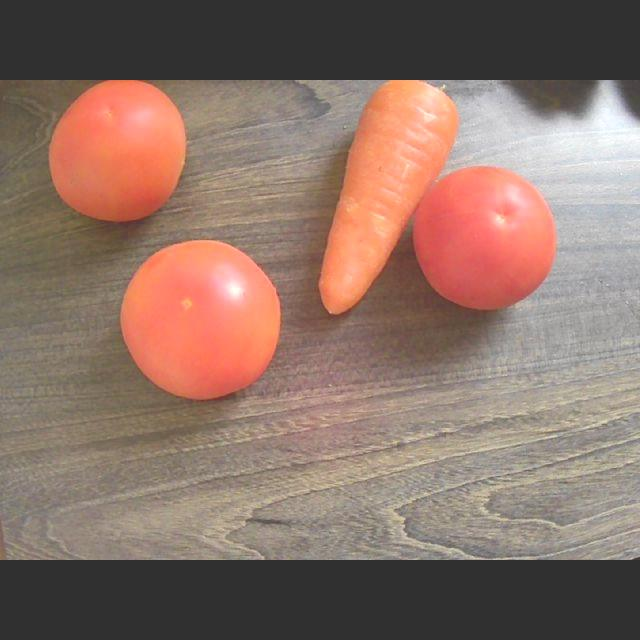tomate: (121, 240, 279, 399), (413, 166, 556, 309), (49, 80, 185, 221)
zanahoria: (320, 80, 457, 313)
